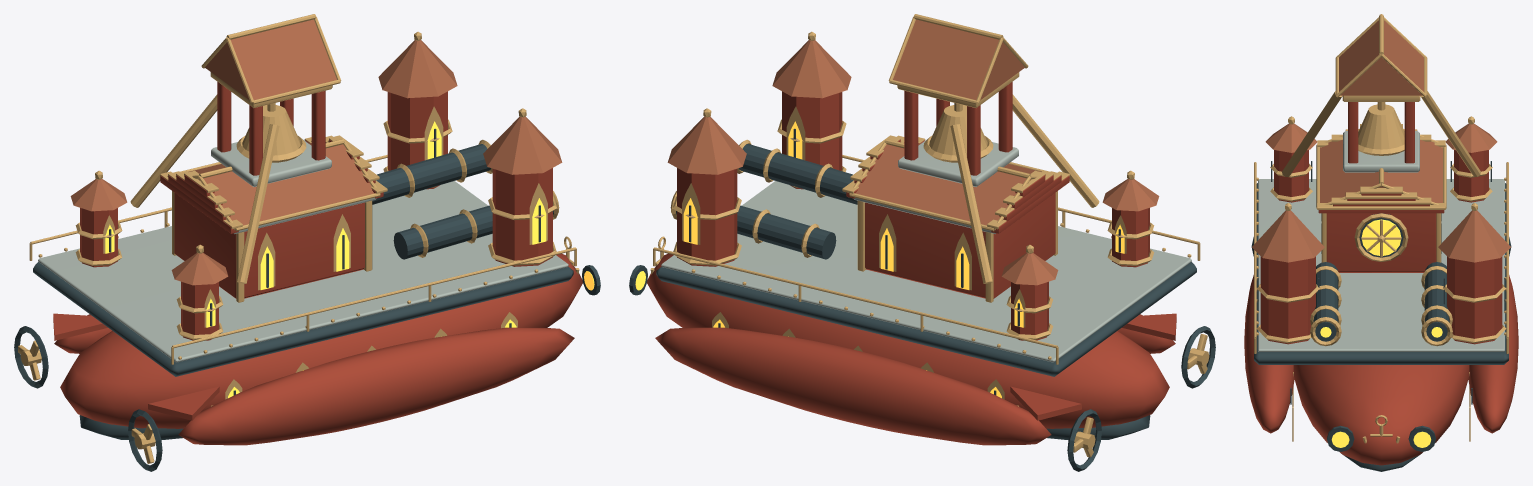
File: enemy-bellwarden.glb
The picture shows the model from 3 angles, left to right: view 1: azimuth 30°, elevation 25°; view 2: azimuth 150°, elevation 25°; view 3: azimuth 270°, elevation 25°; orthographic projection. The views are drawn at different scales.
Visible parts, largest first — view 1: enemy-bellwarden / Paint | Hanseatic oxblood, enemy-bellwarden / Paint | armored limestone, enemy-bellwarden / Copper | fired red roof, enemy-bellwarden / Fittings | worn maritime brass, enemy-bellwarden / Hull | charcoal iron, enemy-bellwarden / Lamp | furnace amber; view 2: enemy-bellwarden / Paint | Hanseatic oxblood, enemy-bellwarden / Paint | armored limestone, enemy-bellwarden / Copper | fired red roof, enemy-bellwarden / Fittings | worn maritime brass, enemy-bellwarden / Hull | charcoal iron, enemy-bellwarden / Lamp | furnace amber; view 3: enemy-bellwarden / Paint | Hanseatic oxblood, enemy-bellwarden / Fittings | worn maritime brass, enemy-bellwarden / Copper | fired red roof, enemy-bellwarden / Paint | armored limestone, enemy-bellwarden / Hull | charcoal iron, enemy-bellwarden / Lamp | furnace amber.
Boxes of the visible parts, box(x1,y1,x2,y2) form: enemy-bellwarden / Paint | Hanseatic oxblood: box(53, 82, 582, 445); enemy-bellwarden / Paint | armored limestone: box(38, 139, 568, 362); enemy-bellwarden / Copper | fired red roof: box(70, 19, 562, 285); enemy-bellwarden / Fittings | worn maritime brass: box(18, 14, 579, 463); enemy-bellwarden / Hull | charcoal iron: box(14, 128, 600, 471); enemy-bellwarden / Lamp | furnace amber: box(105, 121, 594, 398); enemy-bellwarden / Paint | Hanseatic oxblood: box(647, 82, 1176, 445); enemy-bellwarden / Paint | armored limestone: box(661, 139, 1191, 362); enemy-bellwarden / Copper | fired red roof: box(667, 19, 1159, 285); enemy-bellwarden / Fittings | worn maritime brass: box(650, 14, 1209, 457); enemy-bellwarden / Hull | charcoal iron: box(629, 128, 1215, 471); enemy-bellwarden / Lamp | furnace amber: box(635, 121, 1124, 398); enemy-bellwarden / Paint | Hanseatic oxblood: box(1244, 102, 1518, 465); enemy-bellwarden / Fittings | worn maritime brass: box(1254, 14, 1508, 443); enemy-bellwarden / Copper | fired red roof: box(1252, 20, 1510, 262); enemy-bellwarden / Paint | armored limestone: box(1258, 131, 1504, 351); enemy-bellwarden / Hull | charcoal iron: box(1251, 161, 1511, 471); enemy-bellwarden / Lamp | furnace amber: box(1320, 219, 1442, 447).
Bounding box in the file's own units: 9.68 × 6.97 × 5.04.
